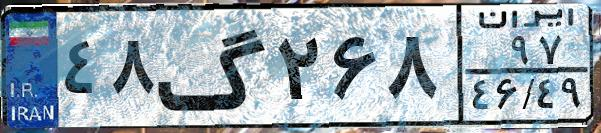2: (270, 28, 330, 110)
4: (57, 26, 110, 100), (470, 70, 495, 125), (535, 70, 560, 125)
6: (330, 28, 385, 110), (495, 70, 520, 125)
7: (537, 27, 568, 80)
8: (385, 28, 445, 110), (110, 28, 156, 98)
9: (560, 70, 590, 125), (508, 27, 537, 80)
گ: (156, 12, 270, 120)
